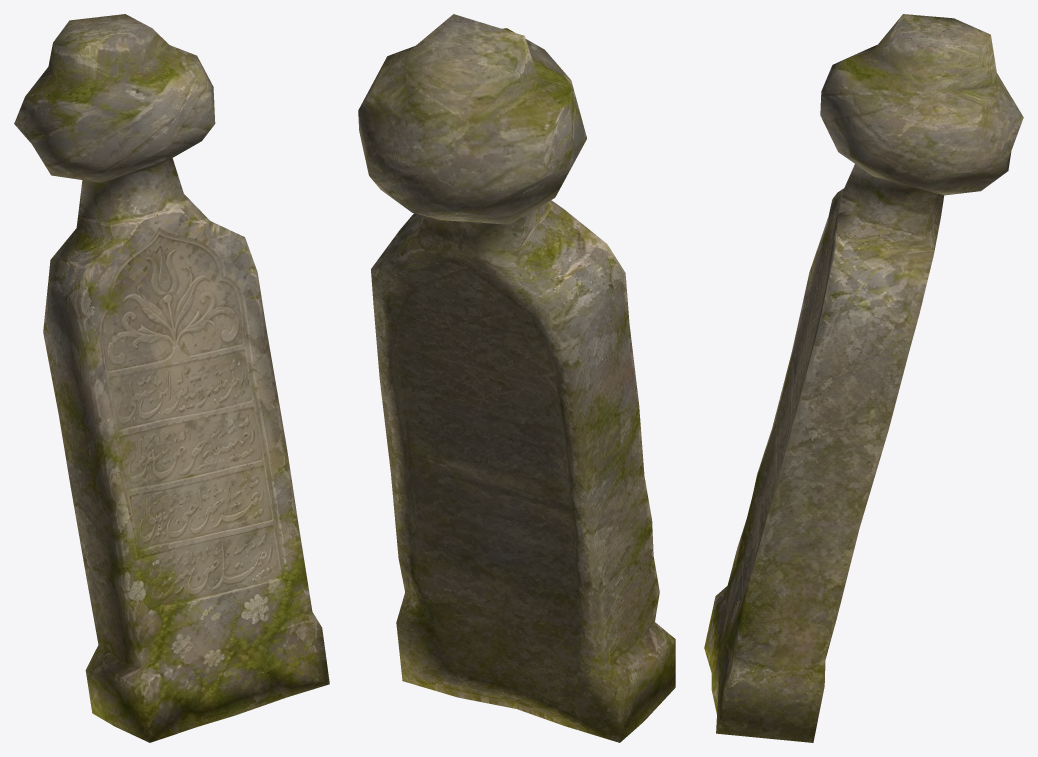
The model's file is mezar.glb.
The picture shows the model from 3 angles, left to right: view 1: azimuth 30°, elevation 25°; view 2: azimuth 150°, elevation 25°; view 3: azimuth 270°, elevation 25°; orthographic projection. The views are drawn at different scales.
Visible parts, largest first — view 1: tripo_node_e25cc8ab-beb2-450e-b702-ceb41e4d14f2; view 2: tripo_node_e25cc8ab-beb2-450e-b702-ceb41e4d14f2; view 3: tripo_node_e25cc8ab-beb2-450e-b702-ceb41e4d14f2.
Boxes of the visible parts, x1,y1,x2,y2 form: tripo_node_e25cc8ab-beb2-450e-b702-ceb41e4d14f2: (14, 14, 329, 742); tripo_node_e25cc8ab-beb2-450e-b702-ceb41e4d14f2: (358, 14, 675, 742); tripo_node_e25cc8ab-beb2-450e-b702-ceb41e4d14f2: (704, 14, 1023, 742).
Bounding box in the file's own units: 0.3254 × 0.9721 × 0.424.
Materials: 1 (1 with a texture image).
